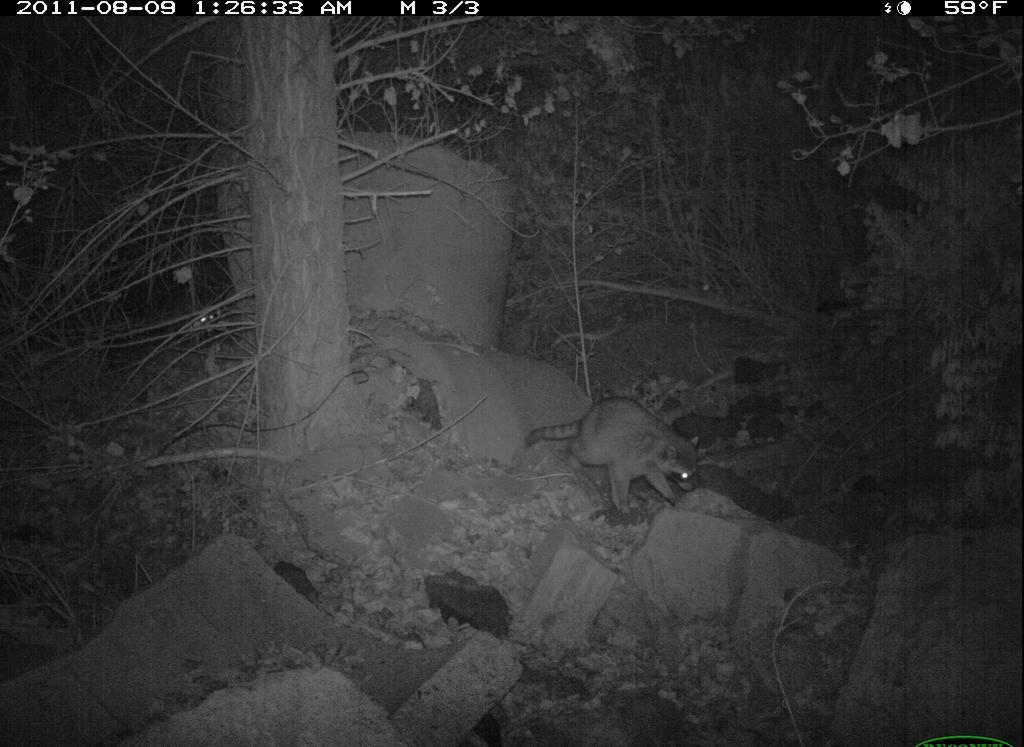raccoon: (528, 393, 706, 513)
